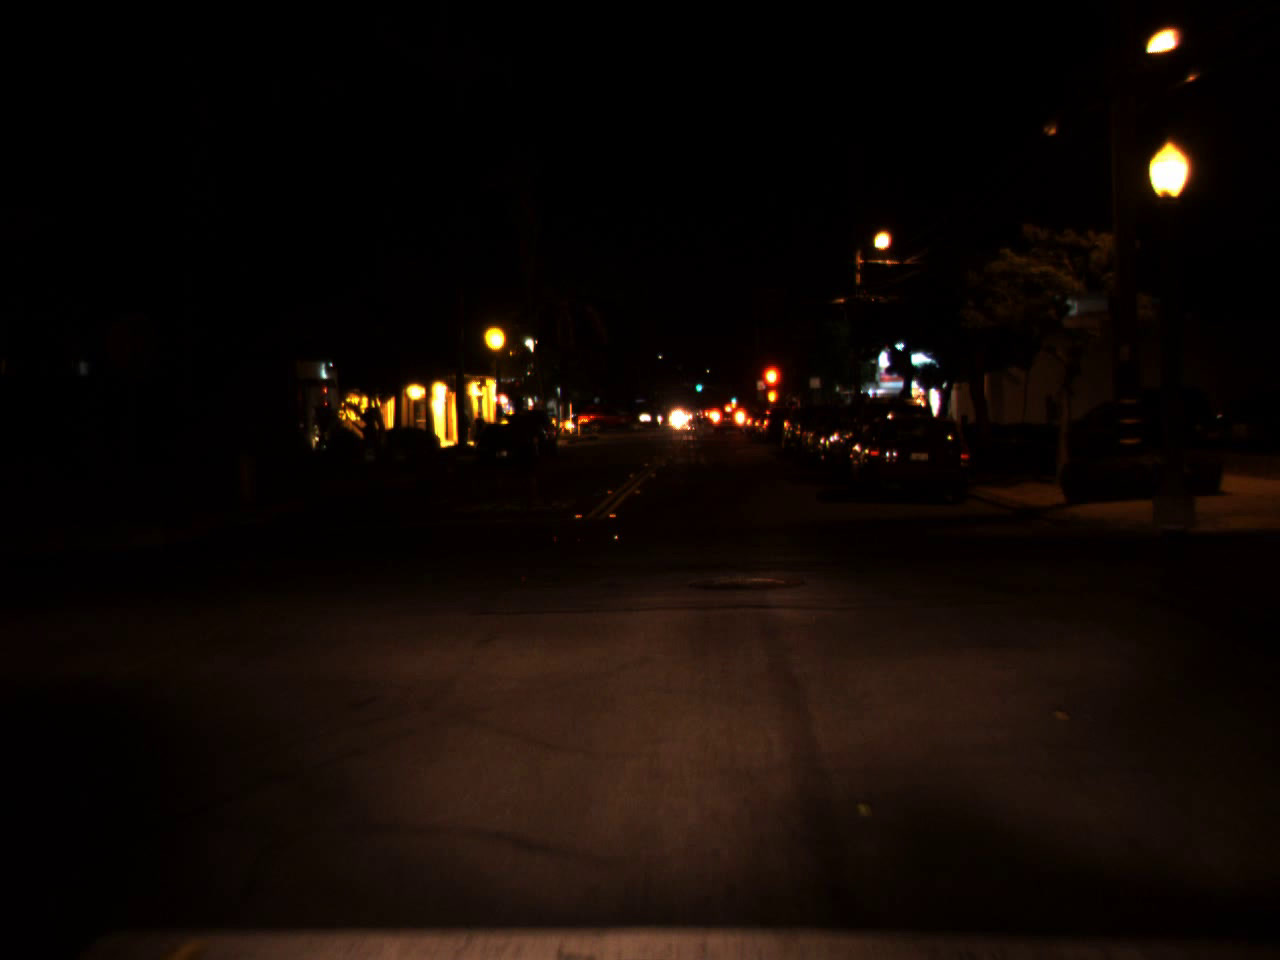go: (693, 376, 703, 394), (730, 392, 737, 404)
stop: (760, 362, 784, 413)
